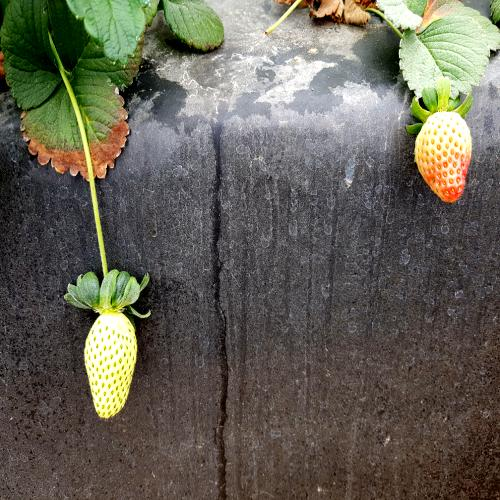partially-ripe: (411, 104, 473, 211)
unripe: (79, 302, 142, 422)
